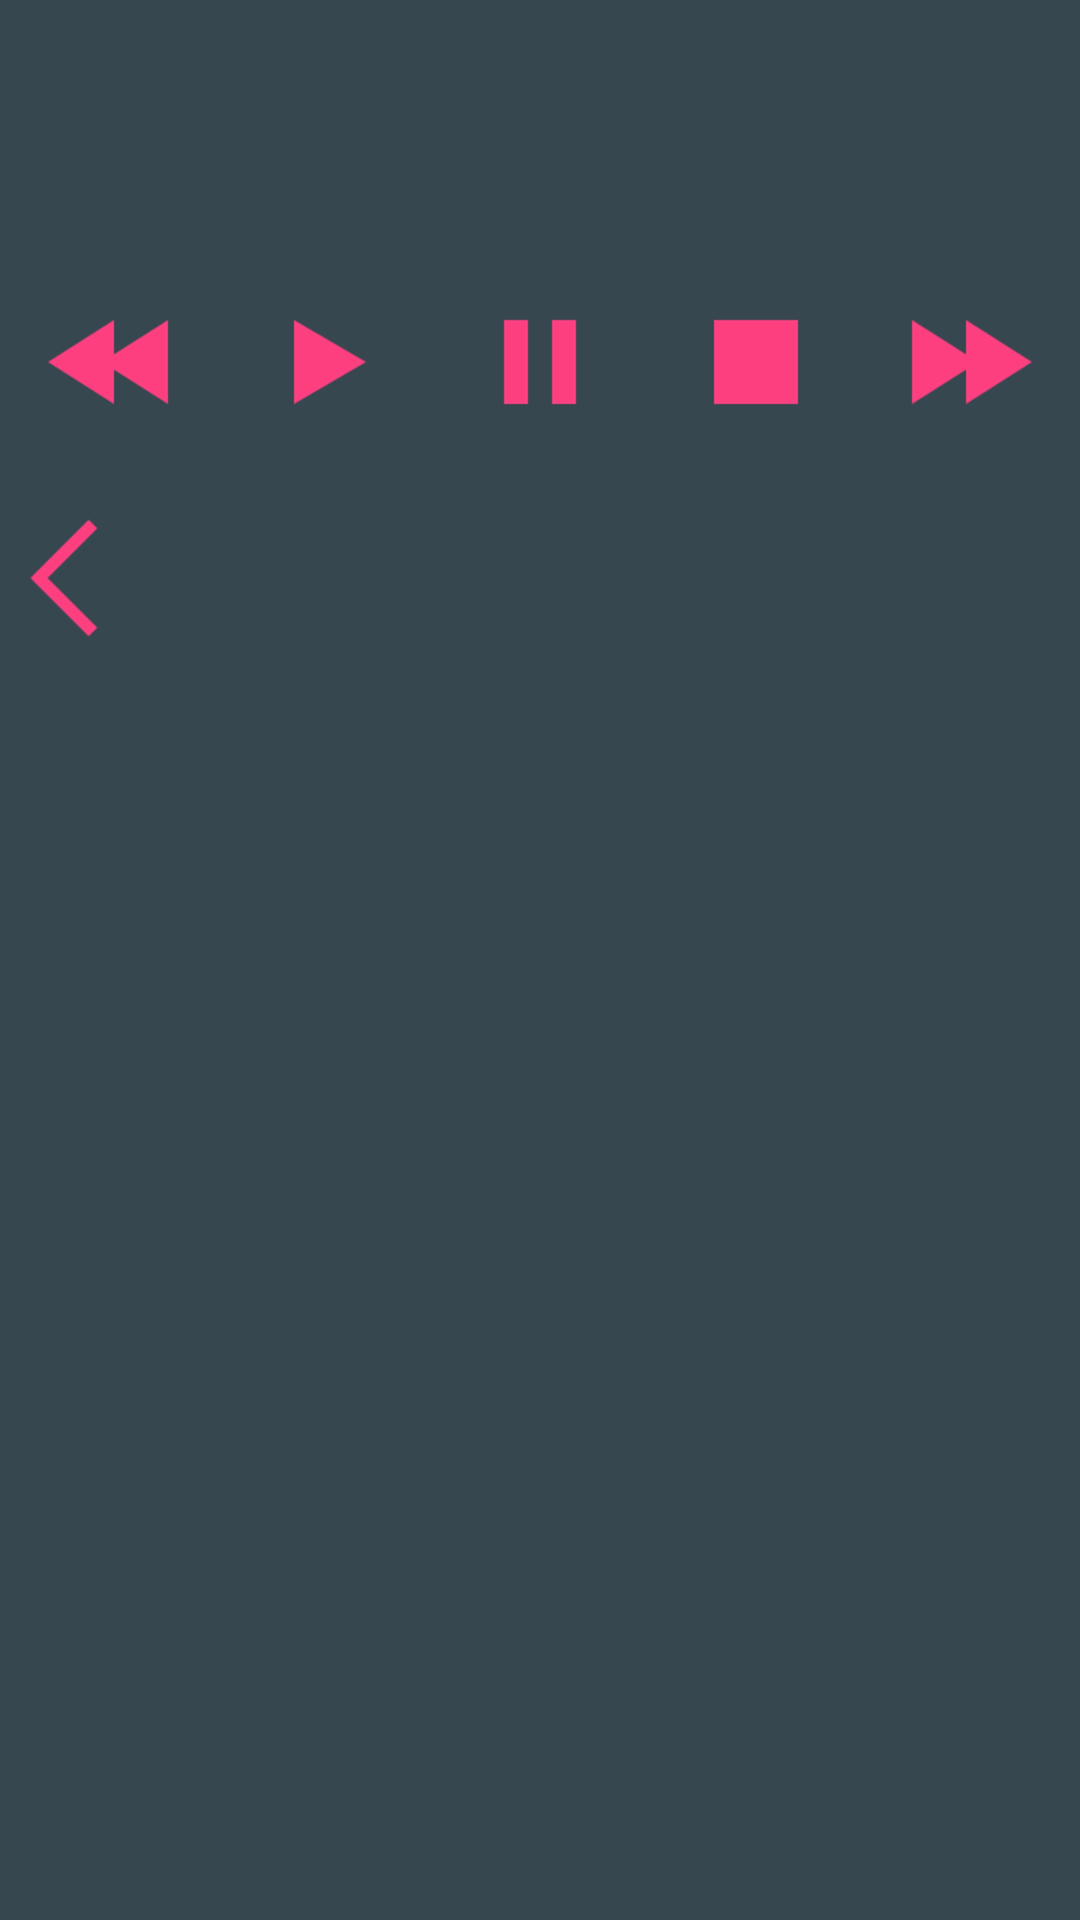

Screen size 1080*1920. Icon name, then its box in pixels as (x1, y1, x2, y2):
back: (30, 519, 98, 637)
forward: (911, 320, 1032, 404)
pause: (503, 319, 577, 405)
play: (293, 320, 366, 404)
rewind: (48, 320, 169, 404)
stop: (713, 319, 799, 405)
